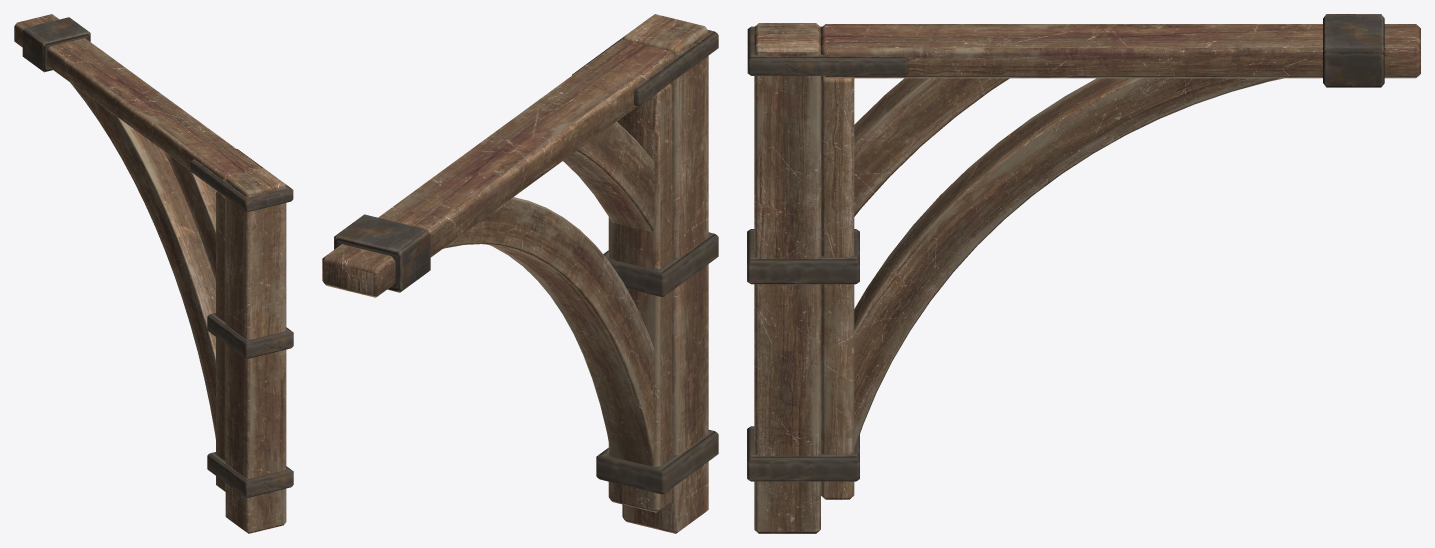
The picture shows the model from 3 angles, left to right: view 1: azimuth 30°, elevation 25°; view 2: azimuth 150°, elevation 25°; view 3: azimuth 270°, elevation 25°; orthographic projection. The views are drawn at different scales.
Visible parts, largest first — view 1: SM_DR_Wood_L_RoofSupport_01_LOD0; view 2: SM_DR_Wood_L_RoofSupport_01_LOD0; view 3: SM_DR_Wood_L_RoofSupport_01_LOD0.
Boxes of the visible parts, left/top/right/bottom form: SM_DR_Wood_L_RoofSupport_01_LOD0: left=14, top=14, right=293, bottom=533; SM_DR_Wood_L_RoofSupport_01_LOD0: left=322, top=14, right=718, bottom=533; SM_DR_Wood_L_RoofSupport_01_LOD0: left=747, top=14, right=1420, bottom=533.
Bounding box in the file's own units: 0.6001 × 4.08 × 5.05.
Materials: 2 (2 with a texture image).
